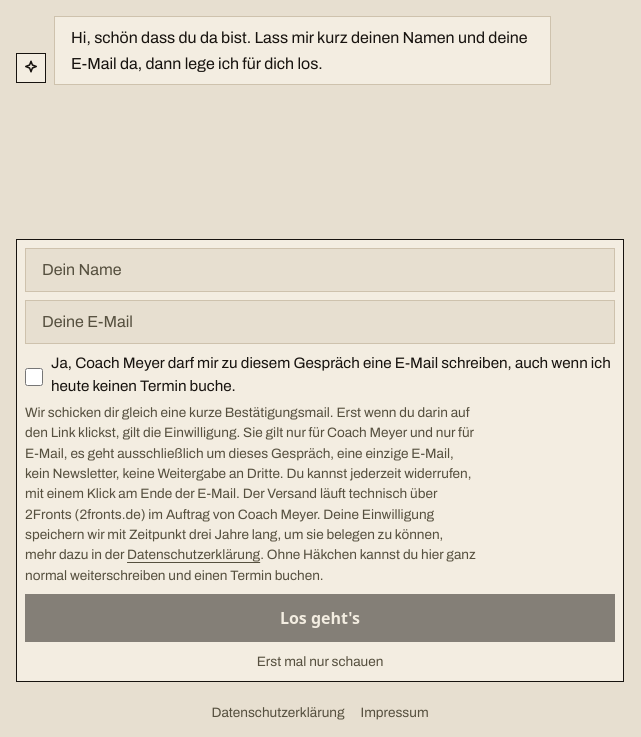
Test: ConciergePublicPage › typing a free-text answer while a quick-reply is pending sends the pending criterion id (v1.3 fix)
Expected: the checkbox is shown, [25,355,43,399]
Type "Max" into the field with placeholder "Dein Name" at (320, 270), box [25,248,615,292]
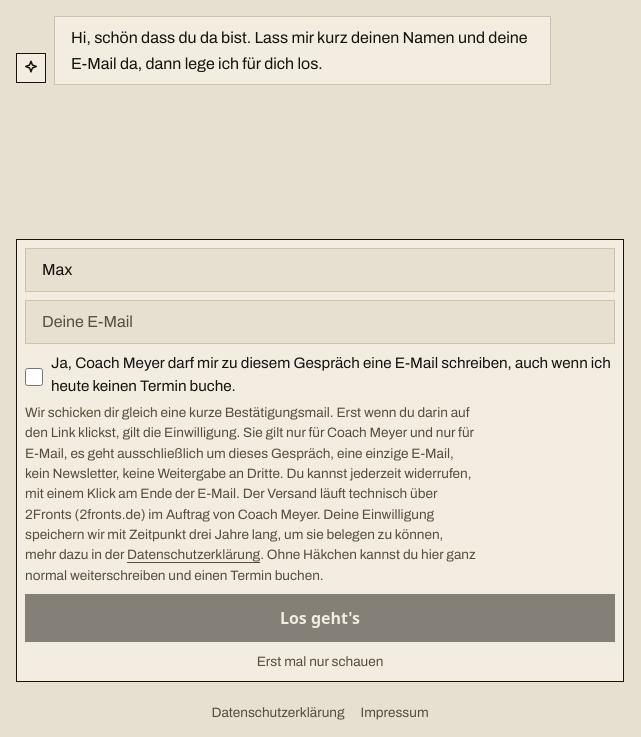
Type "max@example.com" into the field with placeholder "Deine E-Mail" at (320, 322), box [25,300,615,344]
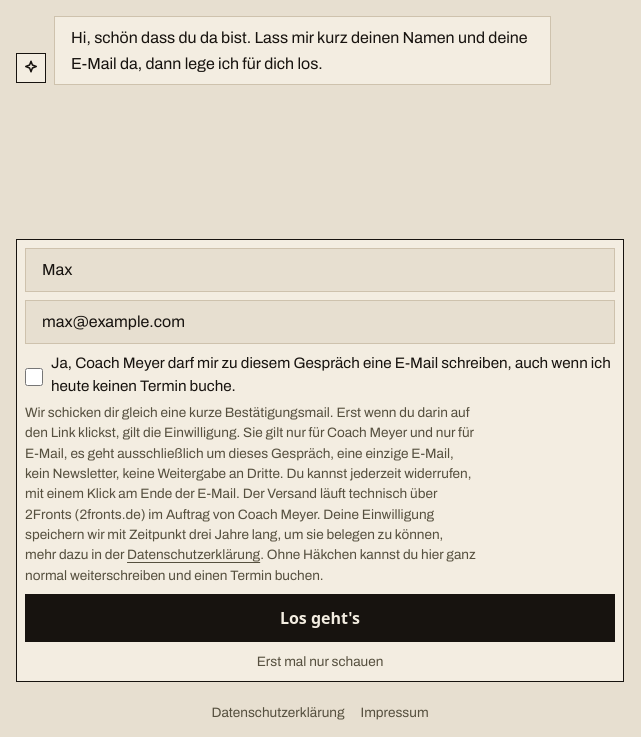
Result: the button "Los geht's" is enabled
Click the button "Los geht's" at (320, 618), box [25,594,615,642]
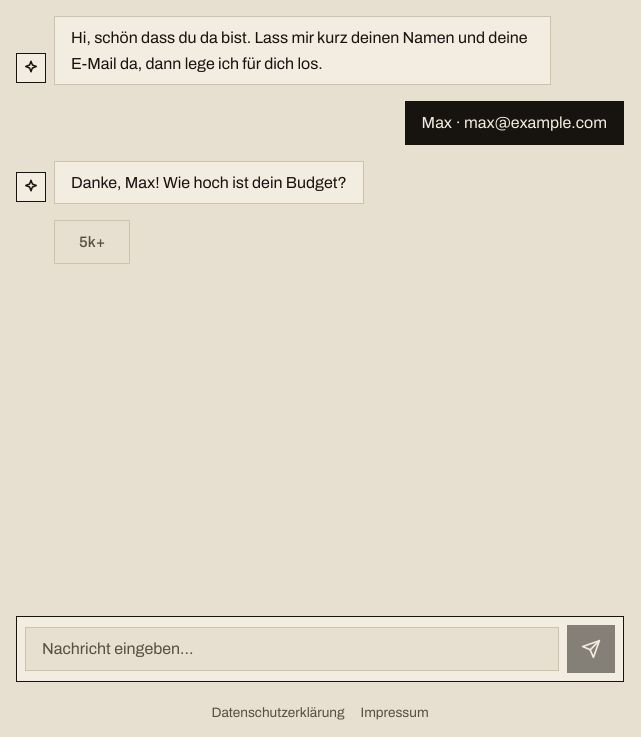
Result: the field with placeholder "Nachricht eingeben…" is shown
Result: the button "5k+" is shown at [54,220,130,264]
Type "so around 8k" into the field with placeholder "Nachricht eingeben…" at (292, 649), box [25,627,559,671]
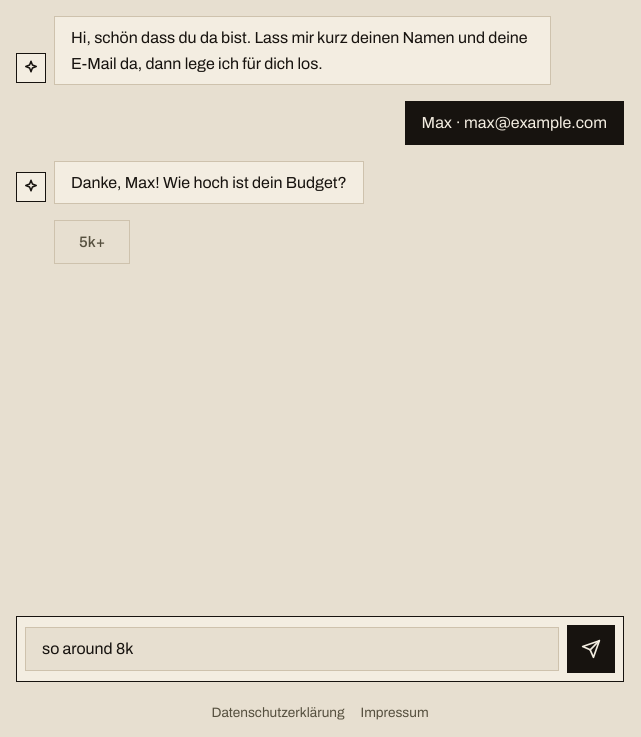
Click the button named "Senden" at (591, 649), box [567,625,615,673]
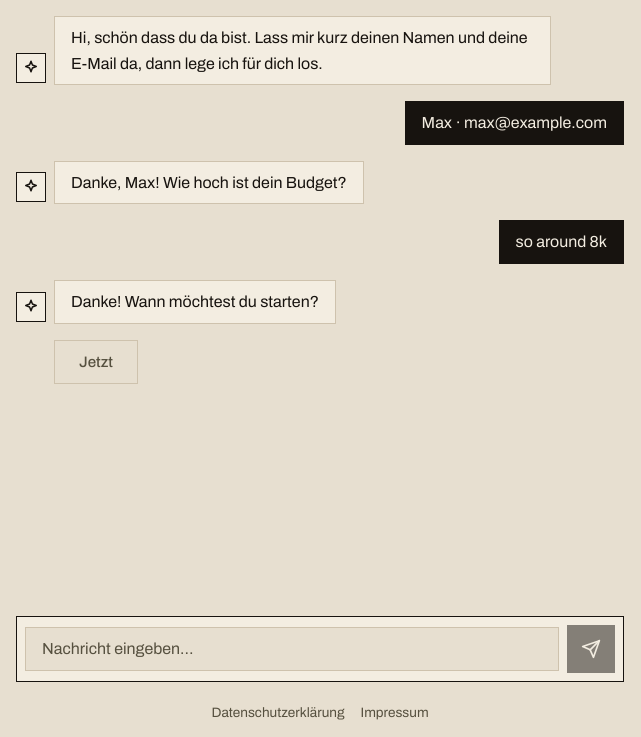
Result: the button "Jetzt" is shown at [54,340,138,384]
Result: the button "5k+" is gone
